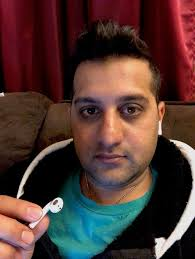earphone: (156, 102, 167, 137)
